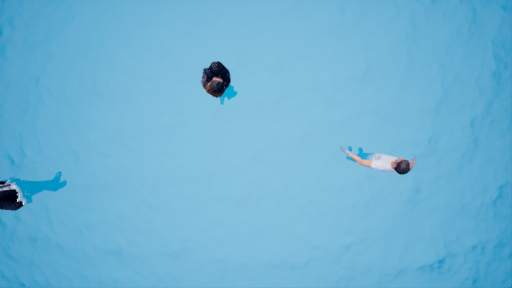person: (1, 165, 77, 213), (339, 144, 421, 175), (193, 57, 243, 107)
